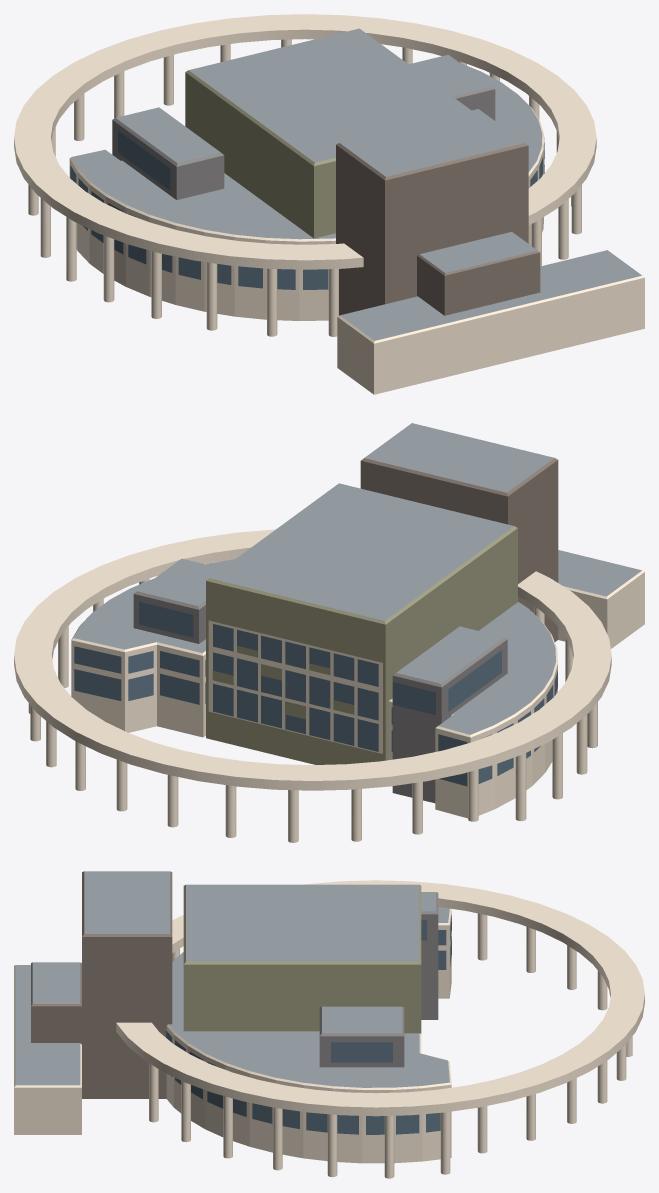
Rendered from atx-long-center.glb.
The picture shows the model from 3 angles, top to bottom: view 1: azimuth 30°, elevation 25°; view 2: azimuth 150°, elevation 25°; view 3: azimuth 270°, elevation 25°; orthographic projection. The views are drawn at different scales.
Visible parts, largest first — view 1: The Long Center for the Performing Arts; view 2: The Long Center for the Performing Arts; view 3: The Long Center for the Performing Arts.
Part boxes in pixels (x1,y1,x2,y2): The Long Center for the Performing Arts: [14, 14, 644, 394]; The Long Center for the Performing Arts: [14, 423, 644, 842]; The Long Center for the Performing Arts: [14, 871, 644, 1178].
Bounding box in the file's own units: 95 × 32 × 112.
